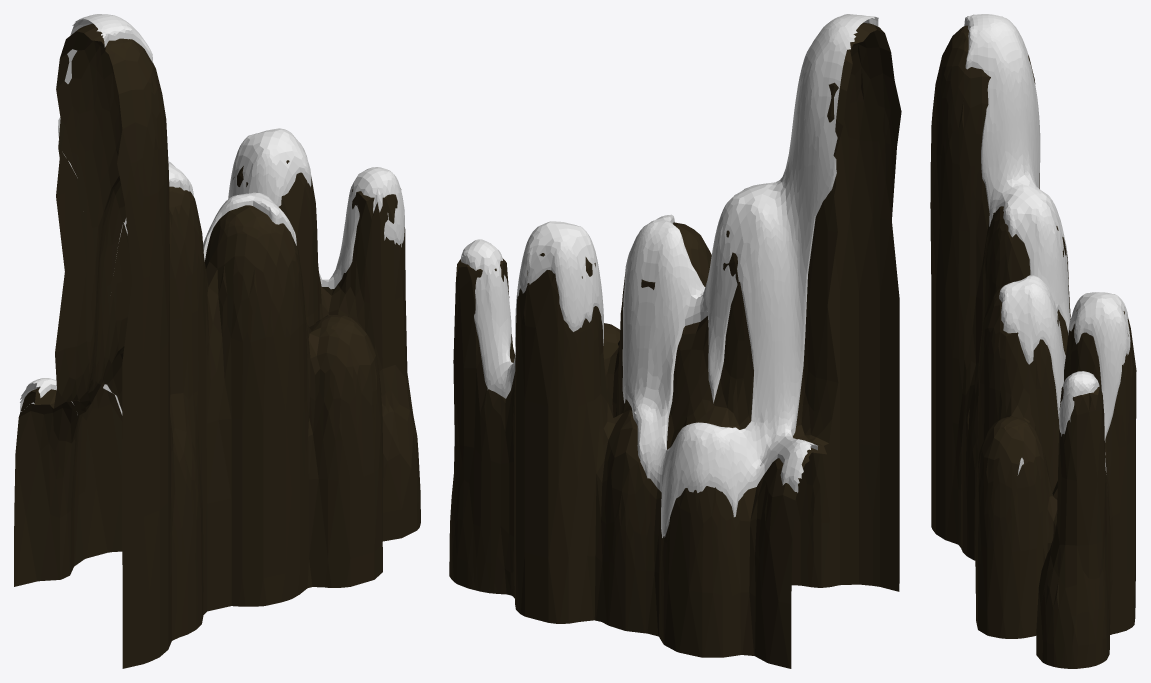
File: Mtn_Wall_S2.fbx
3 views of the same model, side by side, from view 1: azimuth 30°, elevation 25°; view 2: azimuth 150°, elevation 25°; view 3: azimuth 270°, elevation 25° (orthographic). The views are drawn at different scales.
Visible parts, largest first — view 1: Mtn_Wall_S2; view 2: Mtn_Wall_S2; view 3: Mtn_Wall_S2.
Part boxes in pixels (box(x1,y1,x2,y2)): Mtn_Wall_S2: box(14, 14, 420, 668); Mtn_Wall_S2: box(449, 14, 901, 668); Mtn_Wall_S2: box(930, 14, 1136, 668).
Size of the model in its own units: 16754 by 25898 by 9547.
